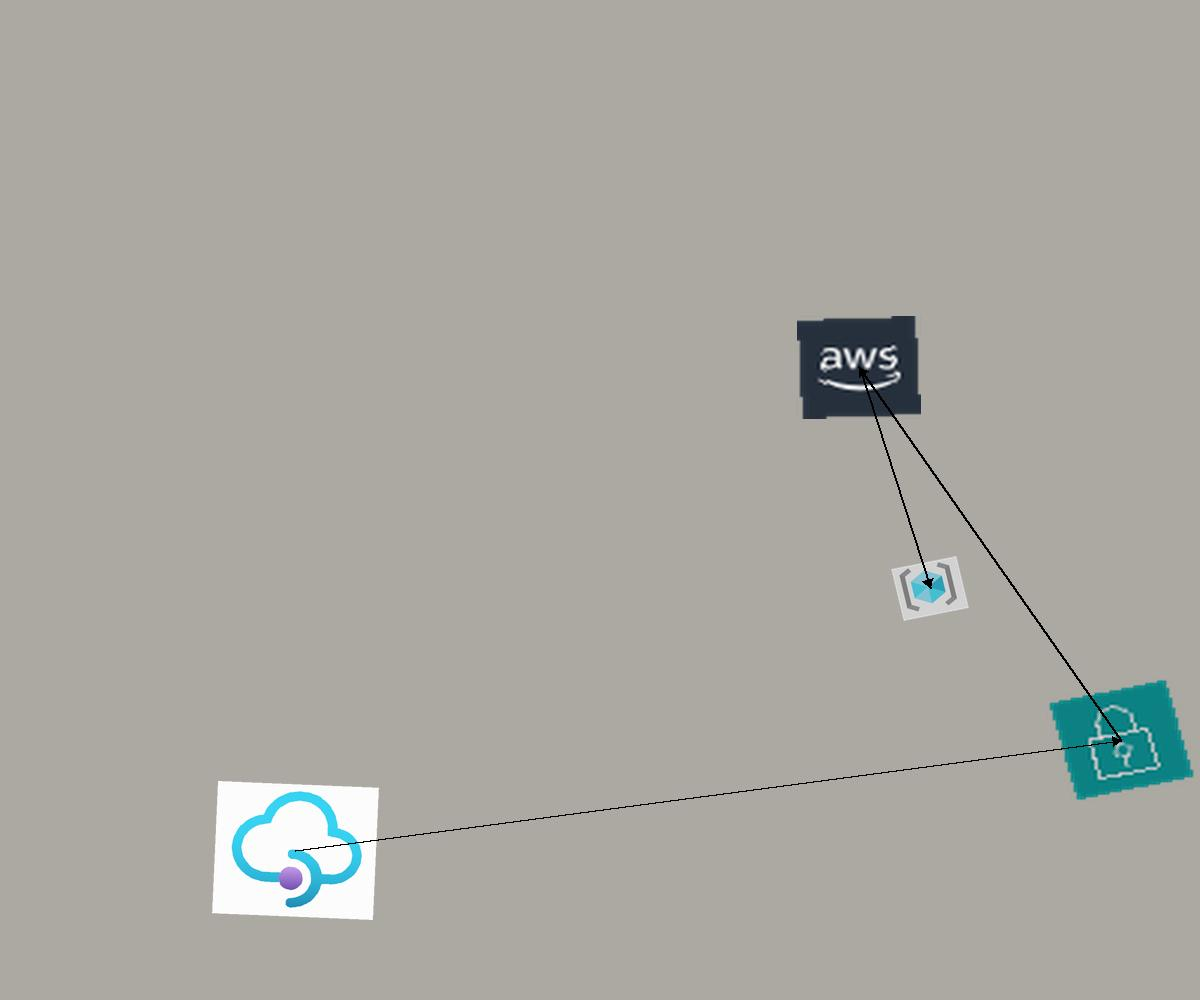AWS-Cloud-logo: (797, 316, 921, 419)
AWS-Private-subnet: (1047, 678, 1196, 802)
Azure_api_gateway: (212, 781, 379, 920)
Azure_resource_group: (891, 556, 969, 621)
